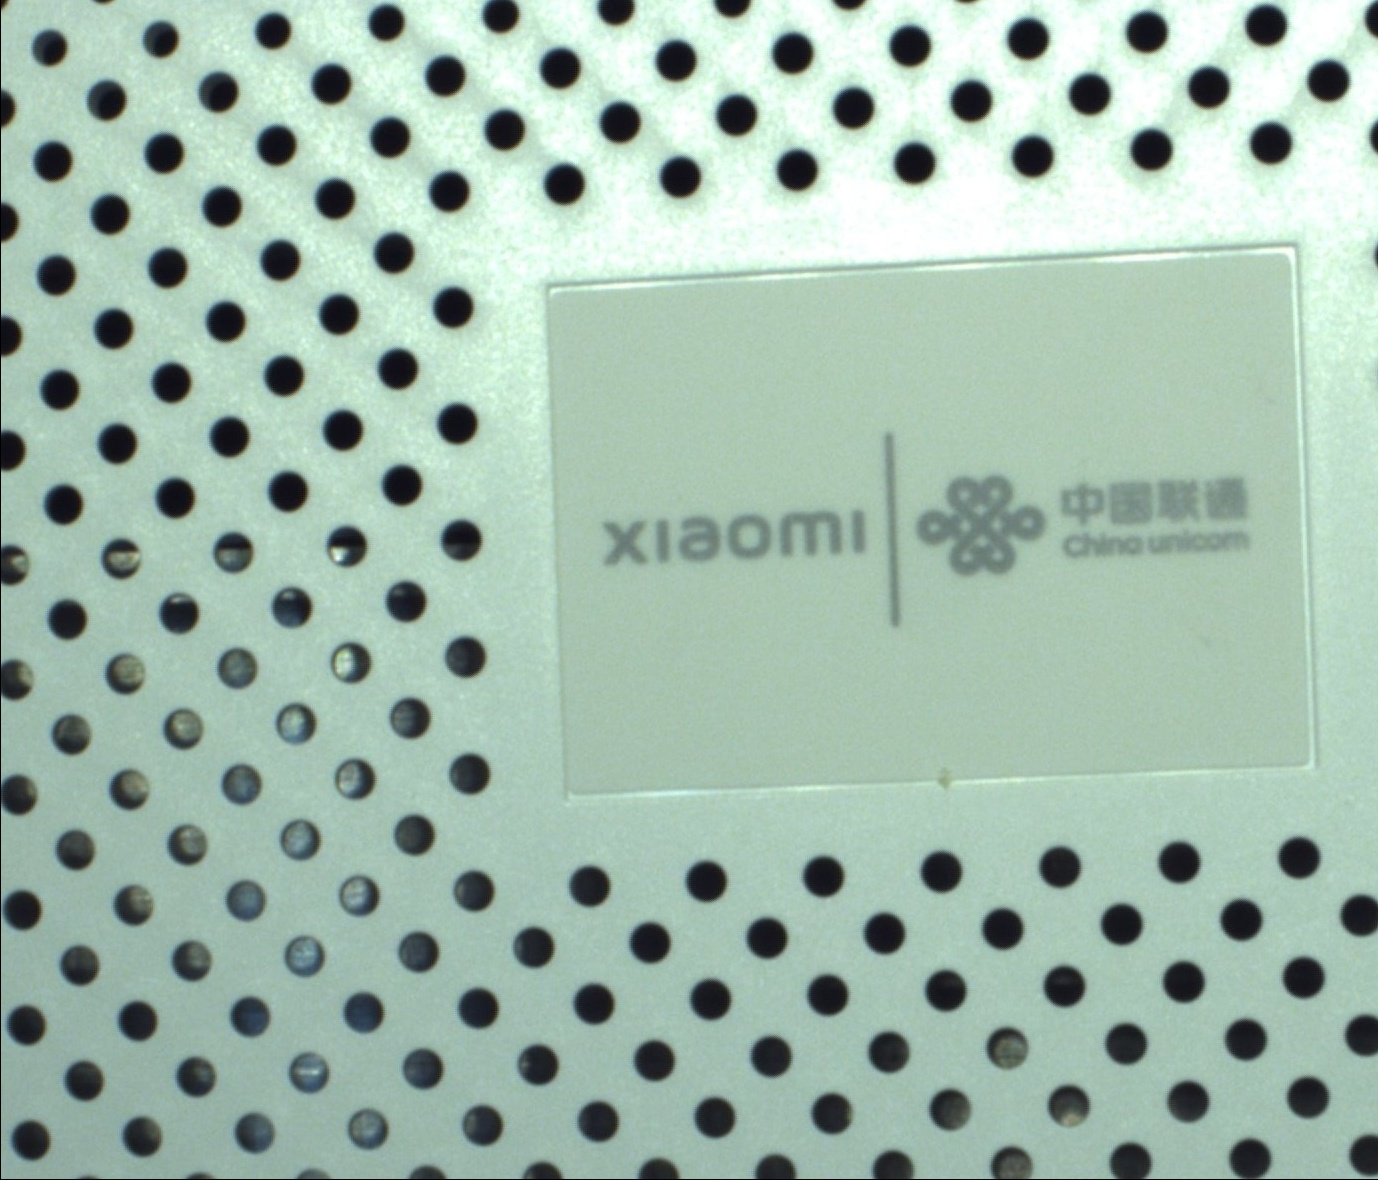MAC_NewUnicom: (598, 433, 1259, 625)
